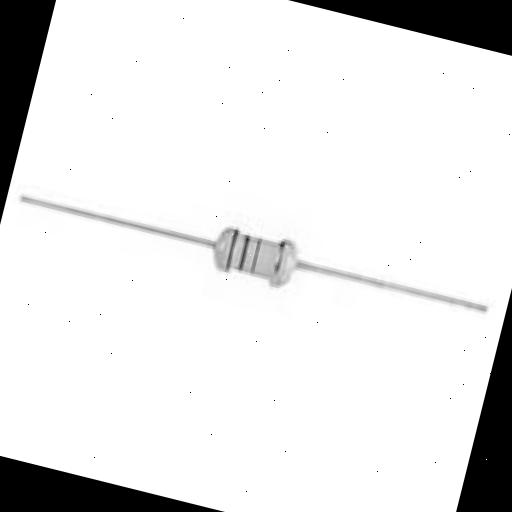RESISTOR: (168, 188, 327, 351)
